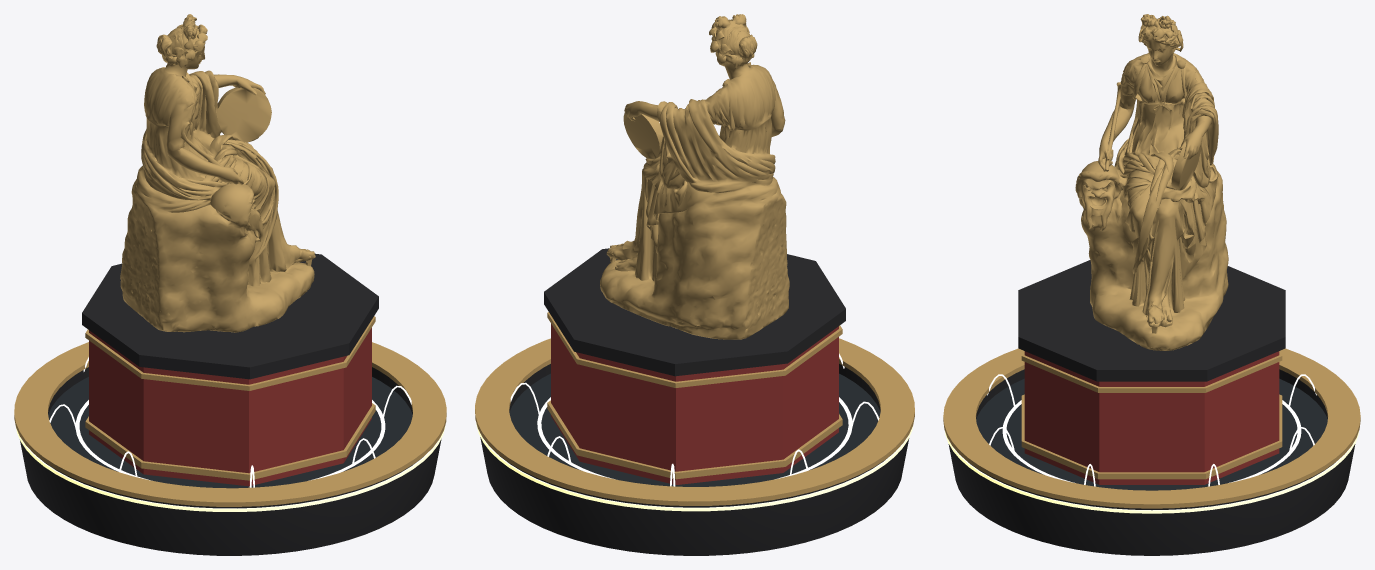
The model's file is fountain_muse.glb.
The picture shows the model from 3 angles, left to right: view 1: azimuth 30°, elevation 25°; view 2: azimuth 150°, elevation 25°; view 3: azimuth 270°, elevation 25°; orthographic projection. The views are drawn at different scales.
Parts seen in each view (by area): view 1: Statue_LOD0, Plinth_LOD0, Basin_LOD0, Cap_LOD0, Rim_LOD0, Water_LOD0, Band_LOD0, Band_LOD0.001, RimLight_LOD0, Glint_LOD0; view 2: Statue_LOD0, Plinth_LOD0, Basin_LOD0, Cap_LOD0, Rim_LOD0, Water_LOD0, Band_LOD0, Band_LOD0.001, RimLight_LOD0, Glint_LOD0; view 3: Statue_LOD0, Plinth_LOD0, Basin_LOD0, Cap_LOD0, Rim_LOD0, Water_LOD0, Band_LOD0, RimLight_LOD0, Band_LOD0.001, Glint_LOD0.
Part boxes in pixels (bbox=[...]): Statue_LOD0: bbox=[120, 14, 315, 332]; Plinth_LOD0: bbox=[89, 328, 371, 486]; Basin_LOD0: bbox=[20, 367, 441, 555]; Cap_LOD0: bbox=[82, 253, 378, 379]; Rim_LOD0: bbox=[14, 342, 446, 506]; Water_LOD0: bbox=[48, 377, 412, 488]; Band_LOD0: bbox=[85, 403, 375, 480]; Band_LOD0.001: bbox=[85, 316, 375, 390]; RimLight_LOD0: bbox=[16, 426, 445, 511]; Glint_LOD0: bbox=[76, 400, 385, 480]; Statue_LOD0: bbox=[600, 14, 789, 339]; Plinth_LOD0: bbox=[551, 323, 838, 484]; Basin_LOD0: bbox=[480, 364, 909, 555]; Cap_LOD0: bbox=[544, 248, 845, 376]; Rim_LOD0: bbox=[475, 338, 914, 505]; Water_LOD0: bbox=[509, 373, 880, 486]; Band_LOD0: bbox=[547, 400, 842, 479]; Band_LOD0.001: bbox=[547, 312, 842, 387]; RimLight_LOD0: bbox=[476, 423, 912, 511]; Glint_LOD0: bbox=[537, 397, 852, 479]; Statue_LOD0: bbox=[1075, 14, 1228, 350]; Plinth_LOD0: bbox=[1024, 351, 1279, 484]; Basin_LOD0: bbox=[948, 369, 1355, 555]; Cap_LOD0: bbox=[1018, 260, 1285, 381]; Rim_LOD0: bbox=[943, 348, 1360, 508]; Water_LOD0: bbox=[976, 378, 1327, 490]; Band_LOD0: bbox=[1021, 394, 1282, 479]; RimLight_LOD0: bbox=[945, 431, 1358, 513]; Band_LOD0.001: bbox=[1021, 350, 1282, 392]; Glint_LOD0: bbox=[1002, 400, 1301, 482].
Size of what is drawn, in the model's own units: 3.28 by 3.83 by 3.28.
